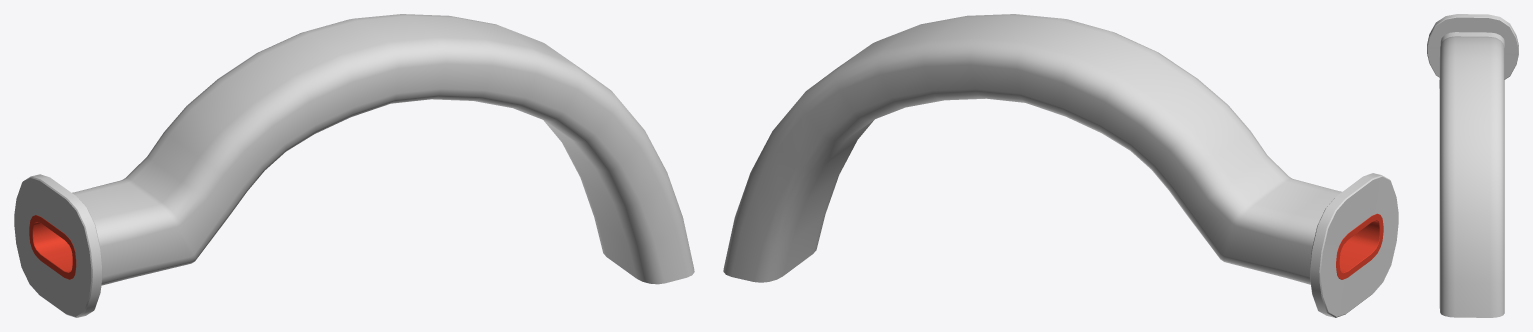
The model's file is FBX_Airway.fbx.
3 views of the same model, side by side, from view 1: azimuth 30°, elevation 25°; view 2: azimuth 150°, elevation 25°; view 3: azimuth 270°, elevation 25° (orthographic). The views are drawn at different scales.
Parts seen in each view (by area): view 1: SM_Airway; view 2: SM_Airway; view 3: SM_Airway.
Boxes of the visible parts, x1,y1,x2,y2 form: SM_Airway: (14,14,694,317); SM_Airway: (723,14,1398,317); SM_Airway: (1427,14,1518,317).
Size of the model in its own units: 0.0797 by 0.0363 by 0.0174.
